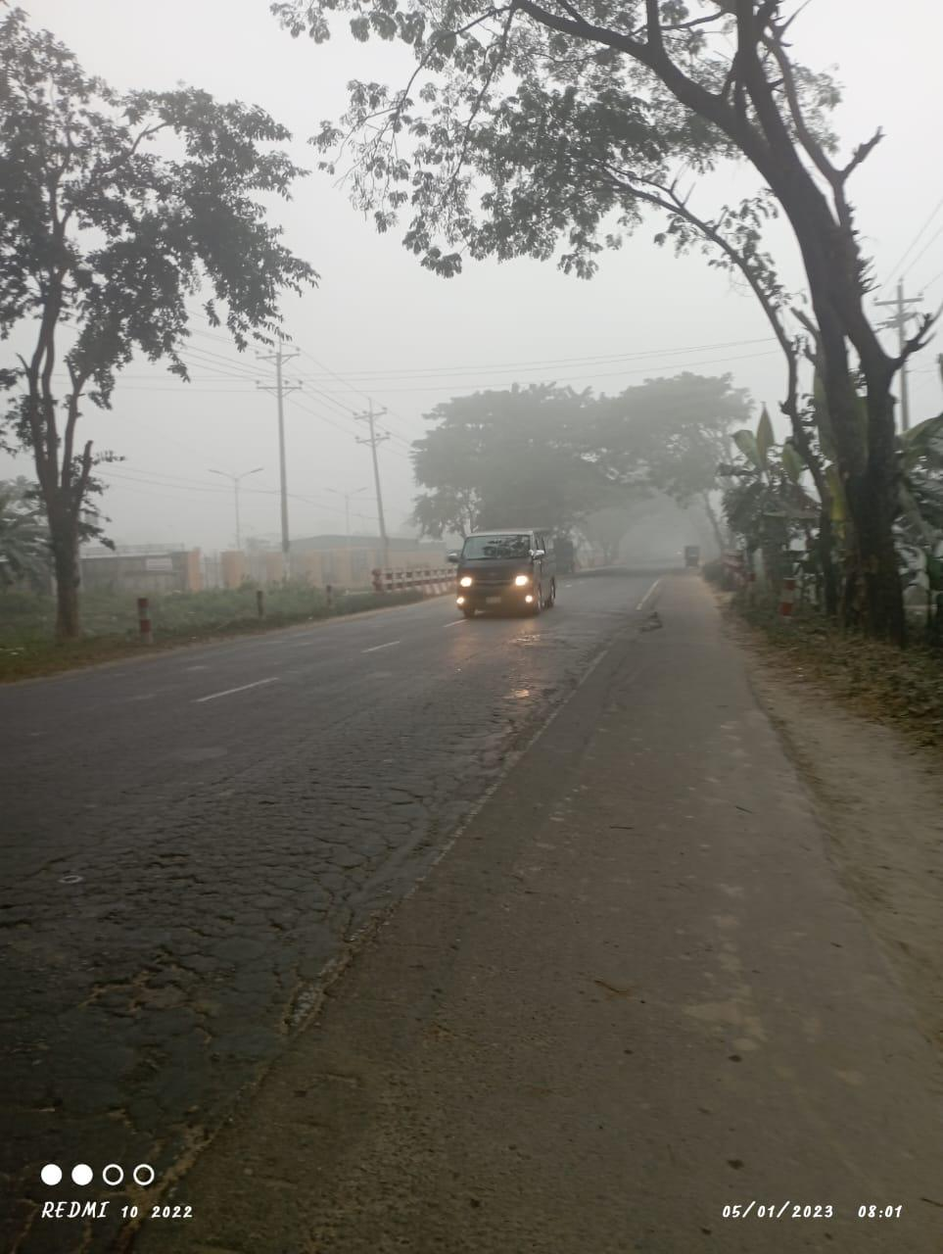Car: (431, 524, 569, 623), (677, 535, 706, 573)
